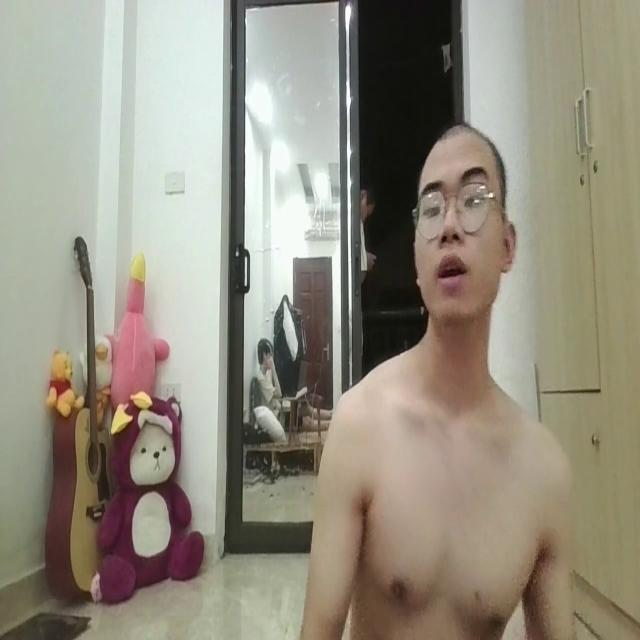extra_person: (232, 300, 308, 479), (358, 157, 381, 368)
student: (281, 66, 586, 640)
